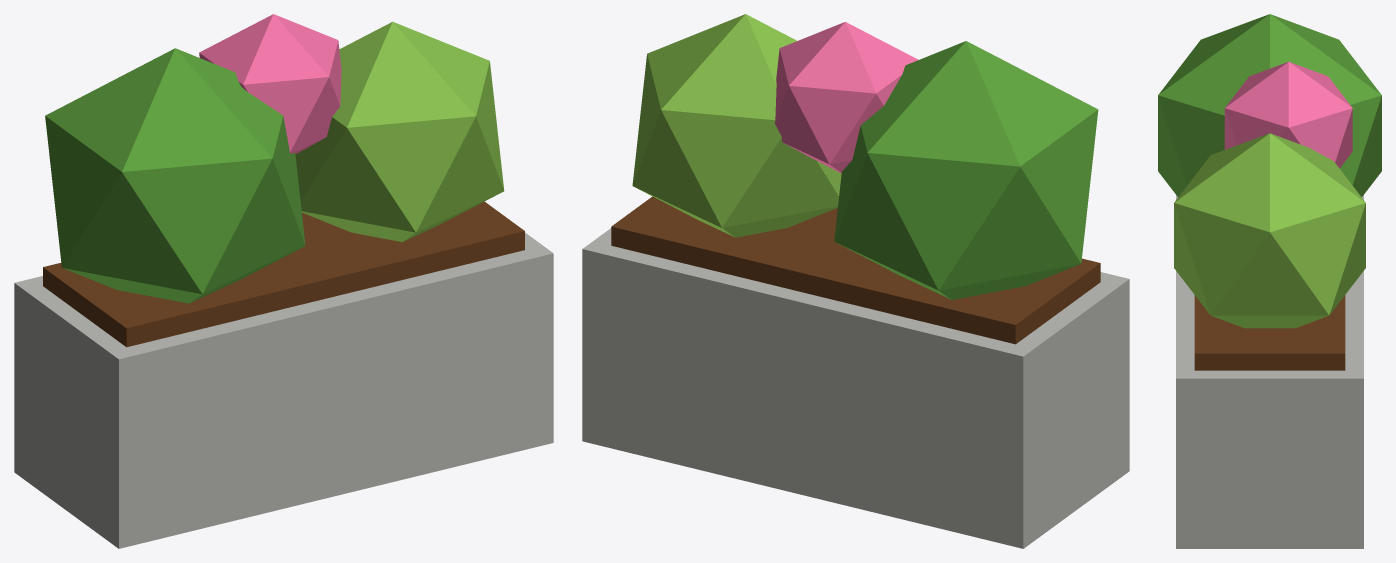
File: planter.glb
3 views of the same model, side by side, from view 1: azimuth 30°, elevation 25°; view 2: azimuth 150°, elevation 25°; view 3: azimuth 270°, elevation 25° (orthographic). The views are drawn at different scales.
Parts seen in each view (by area): view 1: planter; view 2: planter; view 3: planter.
Boxes of the visible parts, x1,y1,x2,y2 form: planter: (14, 14, 553, 548); planter: (582, 14, 1129, 548); planter: (1158, 14, 1381, 548).
Size of the model in its own units: 1.21 by 1.15 by 0.5954.
